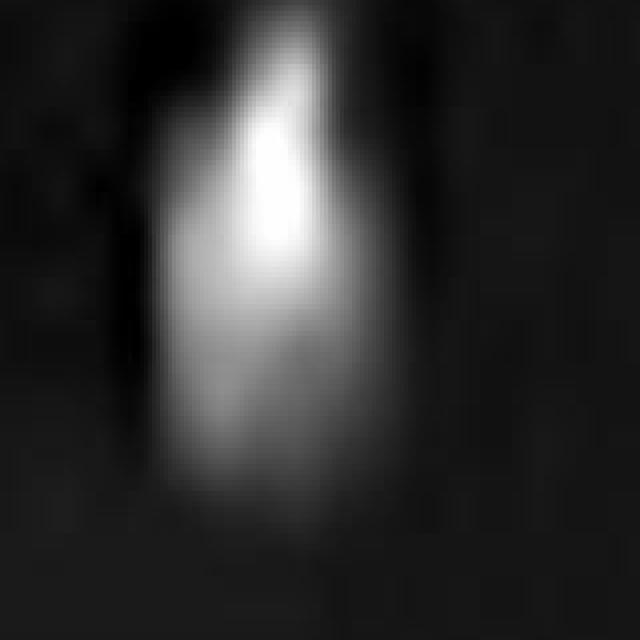person: (133, 1, 421, 508)
